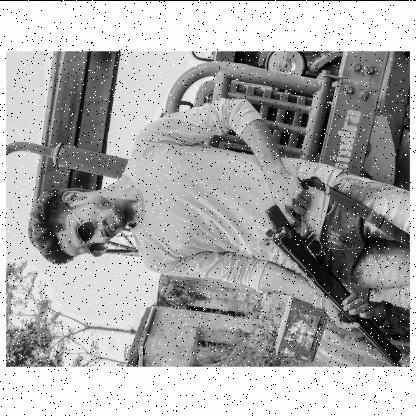rifle: (262, 174, 402, 366)
